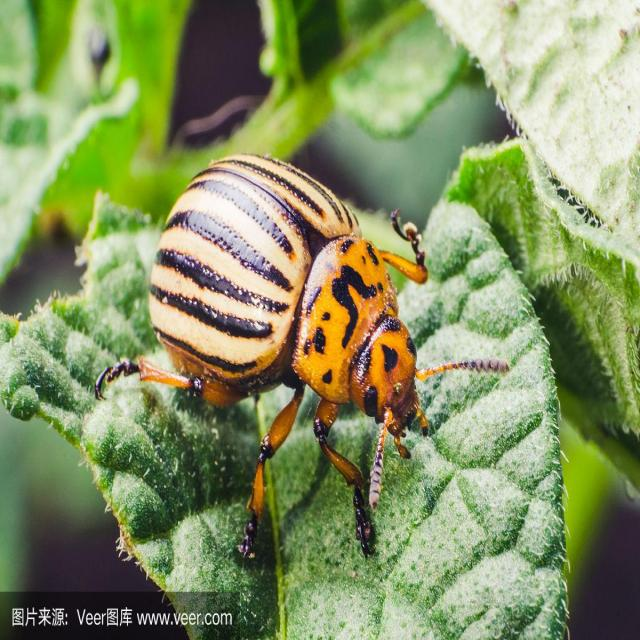ShuCaiHuaBanChong-Grown-: (160, 129, 424, 487)
